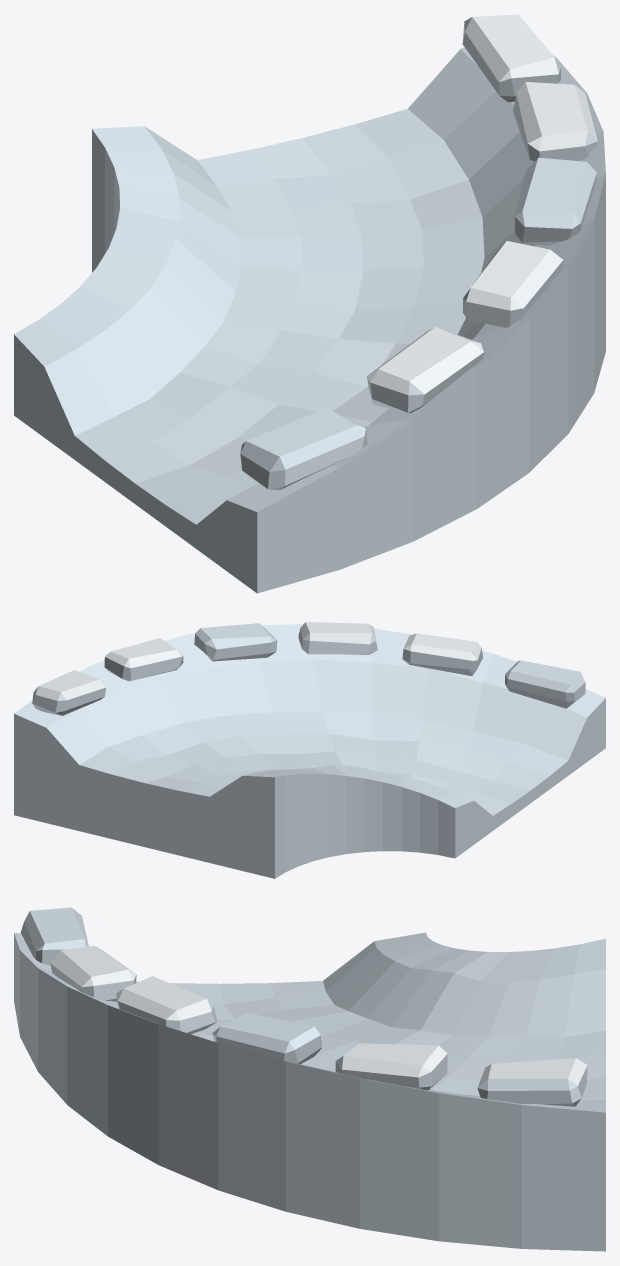
File: banked_turn.glb
The picture shows the model from 3 angles, top to bottom: view 1: azimuth 30°, elevation 25°; view 2: azimuth 150°, elevation 25°; view 3: azimuth 270°, elevation 25°; orthographic projection. The views are drawn at different scales.
Parts seen in each view (by area): view 1: banked_turn; view 2: banked_turn; view 3: banked_turn.
Part boxes in pixels (x1,y1,x2,y2): banked_turn: (14, 14, 605, 593); banked_turn: (14, 622, 605, 878); banked_turn: (14, 907, 605, 1251).
Size of the model in its own units: 4.6 by 1.46 by 4.6.
